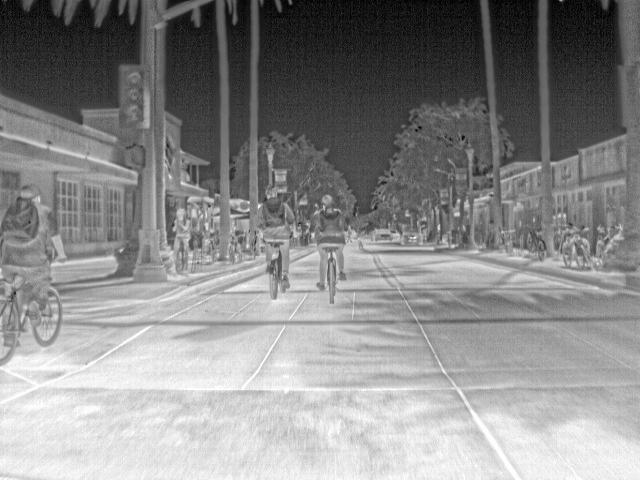car: (401, 228, 423, 246), (372, 228, 394, 241)
person: (1, 183, 69, 327), (256, 182, 296, 290), (314, 192, 346, 290), (171, 207, 192, 275), (201, 220, 215, 261), (346, 223, 354, 243)
